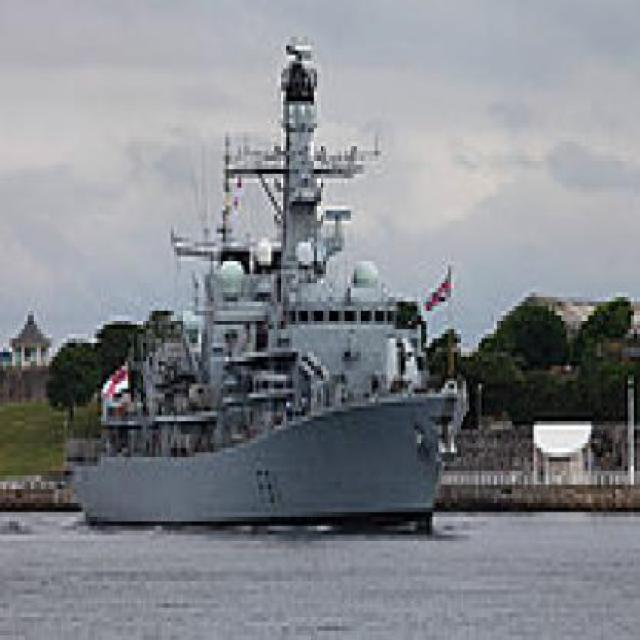warship2: (59, 28, 493, 540)
